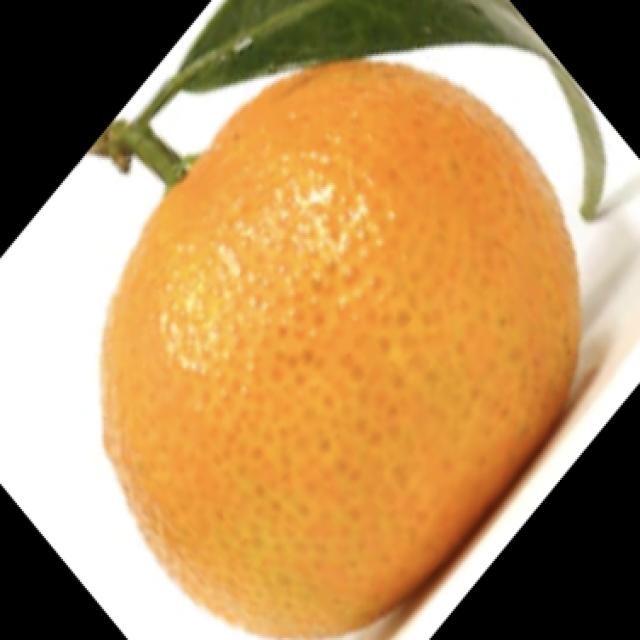orange: (112, 39, 562, 640)
